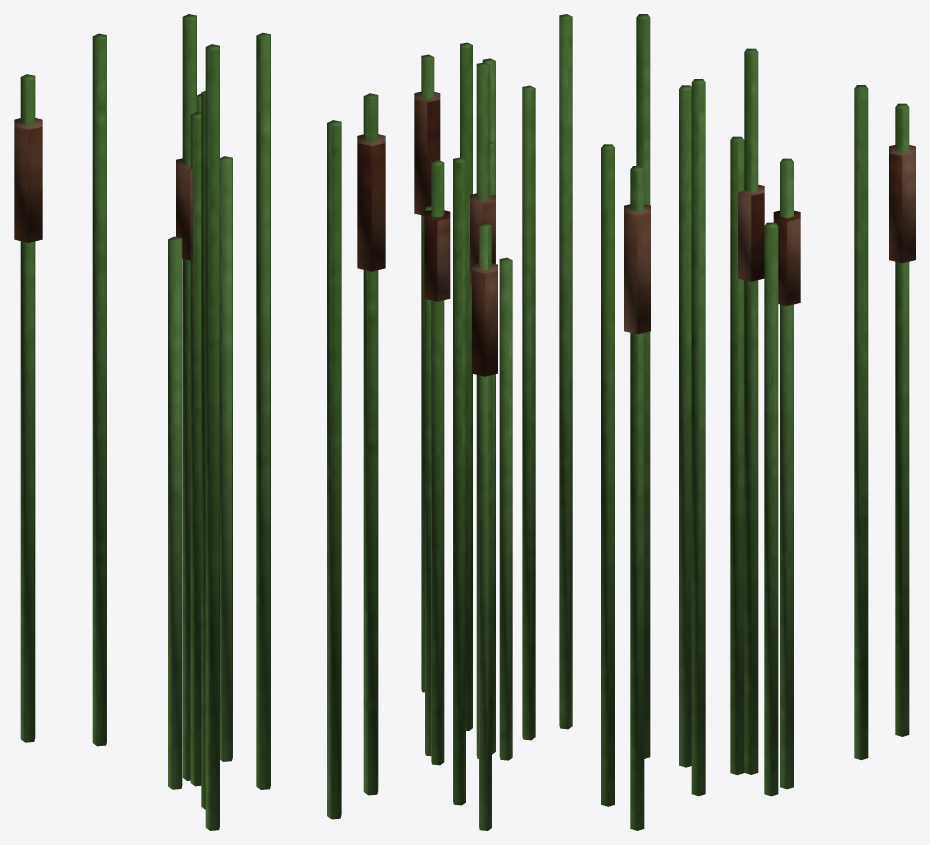
Rendered from reeds_0.glb.
3 views of the same model, side by side, from view 1: azimuth 30°, elevation 25°; view 2: azimuth 150°, elevation 25°; view 3: azimuth 270°, elevation 25° (orthographic). The views are drawn at different scales.
Visible parts, largest first — view 1: reeds_0; view 2: reeds_0; view 3: reeds_0.
Part boxes in pixels (<box>): reeds_0: <box>14,14,385,830</box>; reeds_0: <box>414,14,572,830</box>; reeds_0: <box>601,14,915,830</box>.
Size of the model in its own units: 0.6194 by 1.99 by 0.7691.
2 materials, 2 textured.
